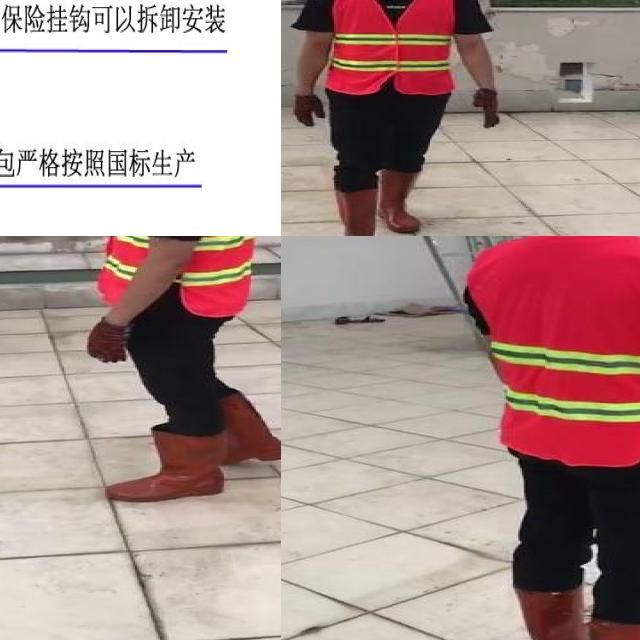boots: (106, 432, 228, 500), (218, 390, 281, 464), (509, 583, 587, 640), (377, 169, 423, 234), (330, 187, 378, 236)
hand_glove: (87, 323, 130, 365), (291, 93, 327, 127), (473, 89, 501, 132)
person: (463, 236, 640, 640), (63, 236, 281, 508), (288, 0, 519, 236)
vest: (466, 236, 640, 467), (327, 0, 455, 97), (106, 236, 254, 317)
